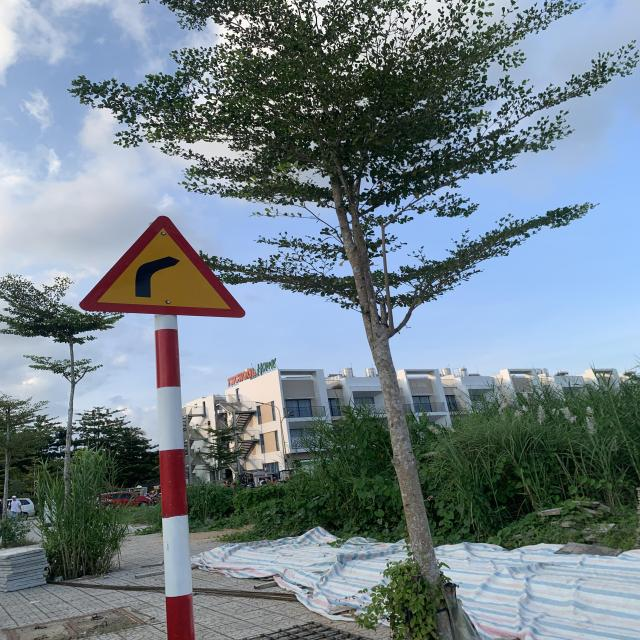Duong_Nguoi_Di_Bo_Cat_Ngang: (81, 215, 245, 319)
